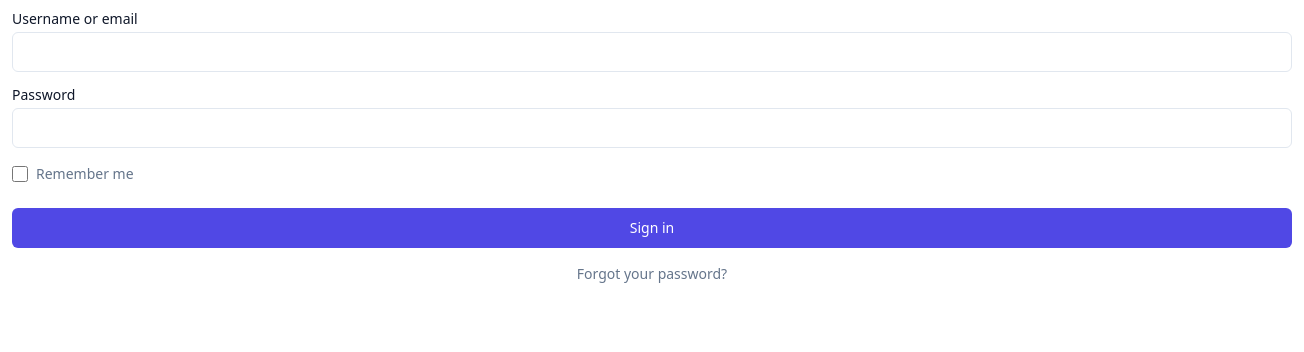
LoginPage › shows validation errors when submitted empty
Click the button "Sign in": x=652, y=228 12,208 -> 1292,248
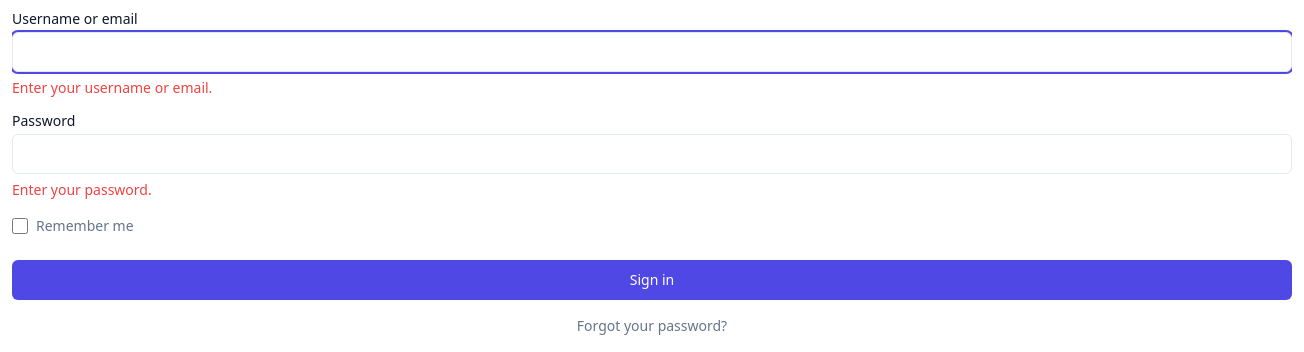
Now the text "Enter your username or email." is shown, box 12,78 -> 212,97
Now the text "Enter your password." is shown, box 12,180 -> 152,199
